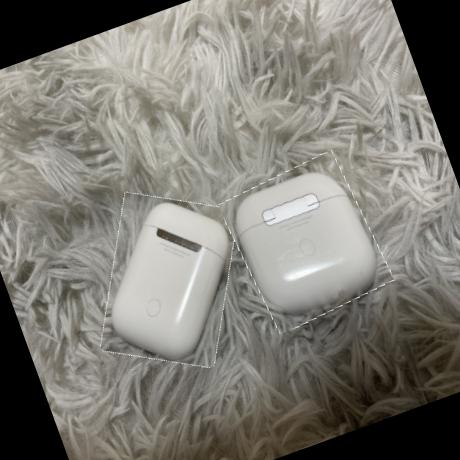airpod2: (70, 172, 268, 389)
airpod3: (218, 150, 394, 336)
